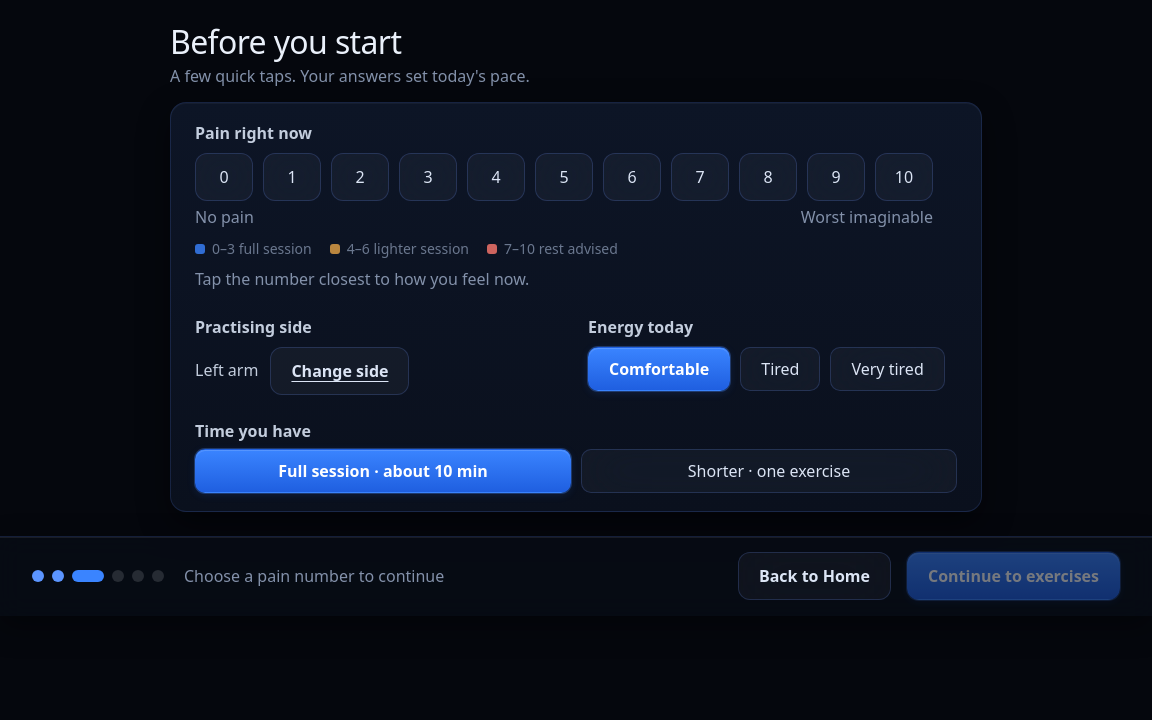
Test: no body area is preselected: with pain, the patient chooses where (or Nowhere) before continuing
The image size is (1152, 720).
Check: the field labelled "Where does it hurt?" is not shown
Click the radio button labelled "3". click: (428,176)
box: x1=399 y1=152 x2=457 y2=200
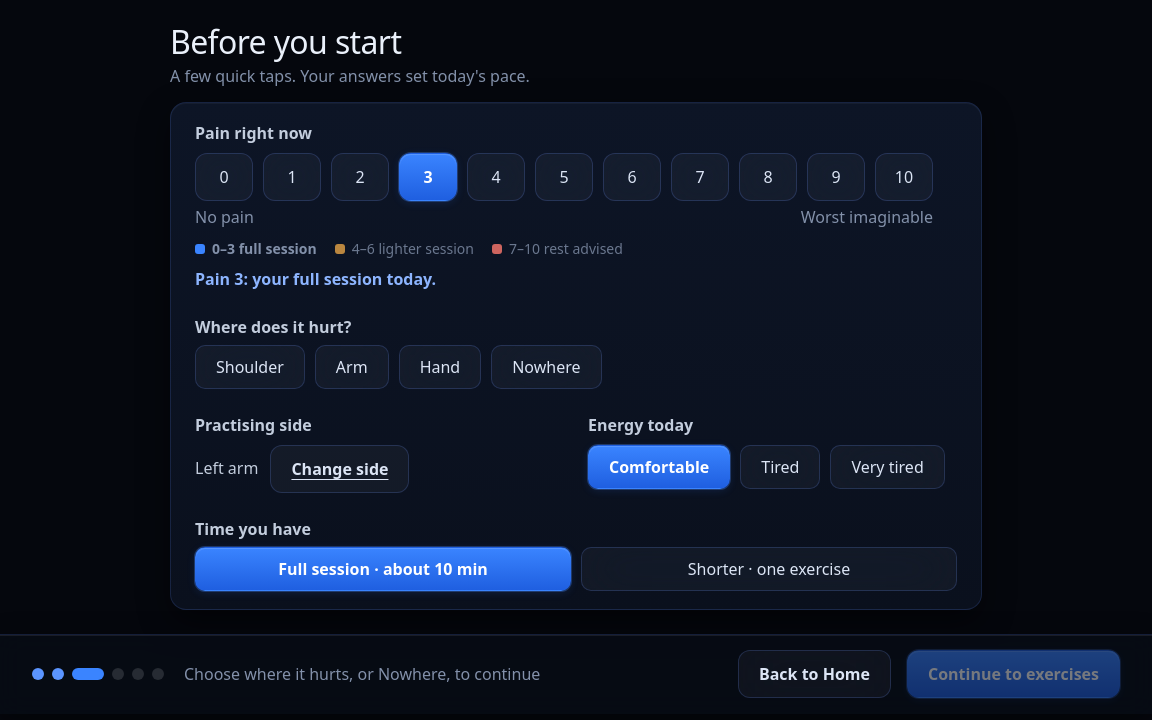
Check: the radio button labelled "Shoulder" is not checked, box x1=195 y1=344 x2=305 y2=388
Check: the radio button labelled "Arm" is not checked, box x1=315 y1=344 x2=389 y2=388
Check: the radio button labelled "Hand" is not checked, box x1=399 y1=344 x2=481 y2=388
Click the radio button labelled "Nowhere". click: (546,366)
box: x1=491 y1=344 x2=602 y2=388
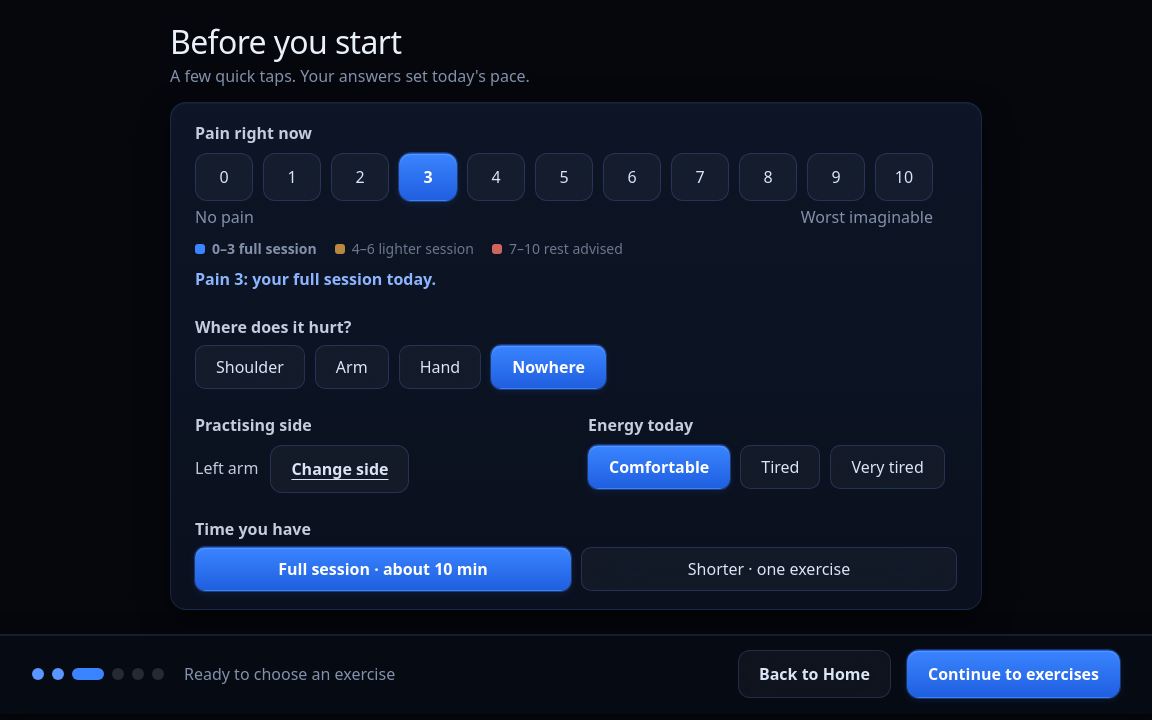
Check: the button "Continue to exercises" is enabled, box x1=907 y1=650 x2=1120 y2=698
